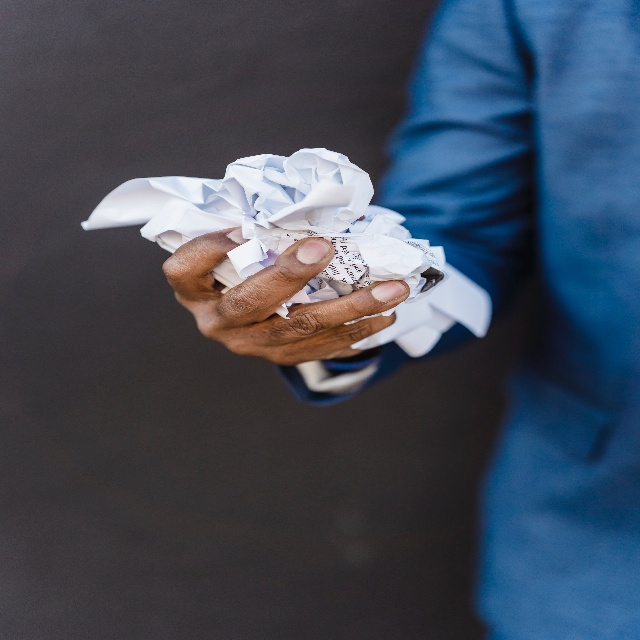Sin_guantes: (161, 237, 406, 351)
